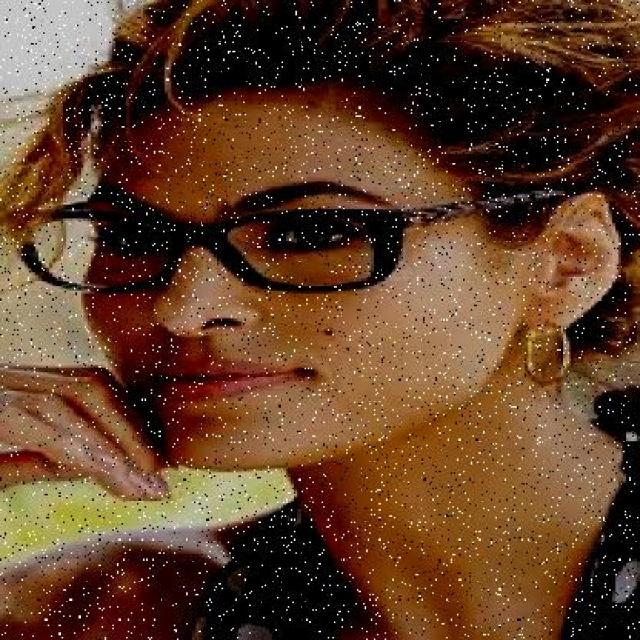glasses: (0, 197, 445, 309)
